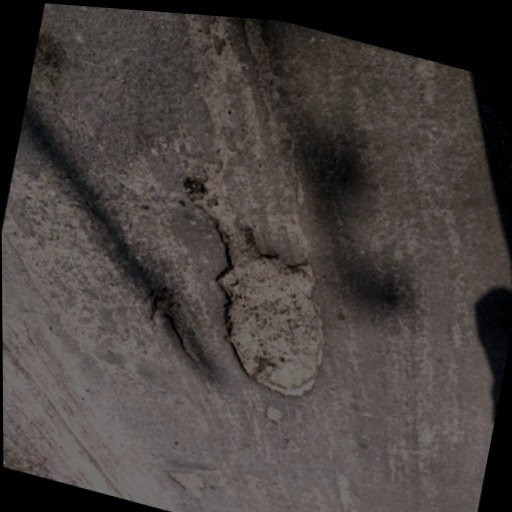pothole: (148, 176, 355, 412), (139, 286, 215, 369), (325, 469, 383, 512), (163, 464, 211, 502), (260, 404, 287, 428)
